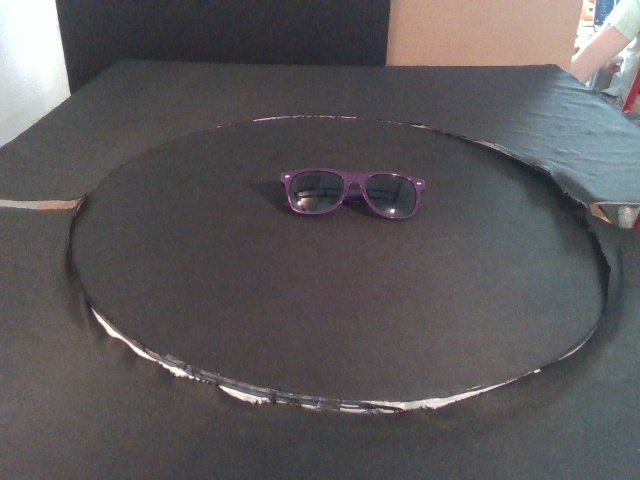glasses: (279, 166, 426, 220)
